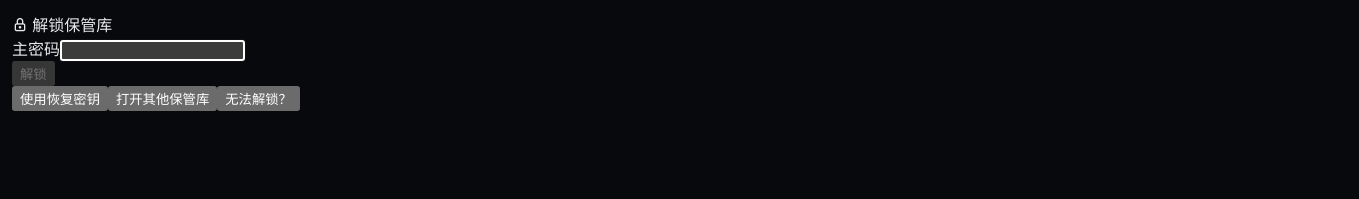
Test: VaultUnlock › names the recovery key's file only when the key is being used, and reads the key from a file
expect the text "my-key.txt" is not shown: met
Step 1. Click the button "使用恢复密钥" → (60, 98), box [12,86,108,111]
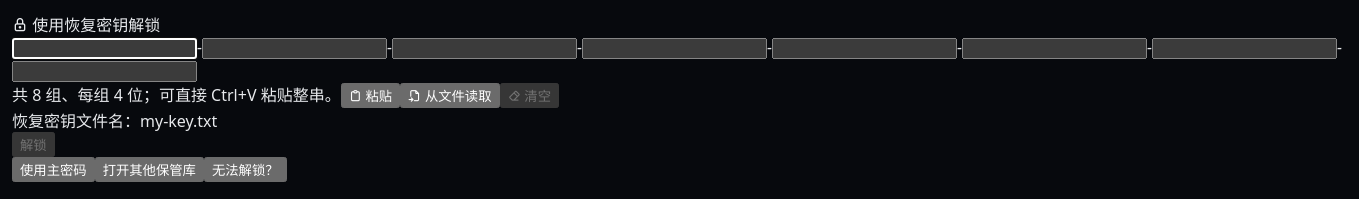
expect the text "my-key.txt" is shown: met, box [140,110,217,132]
Step 2. Click the button "从文件读取" → (450, 96), box [400,83,500,108]
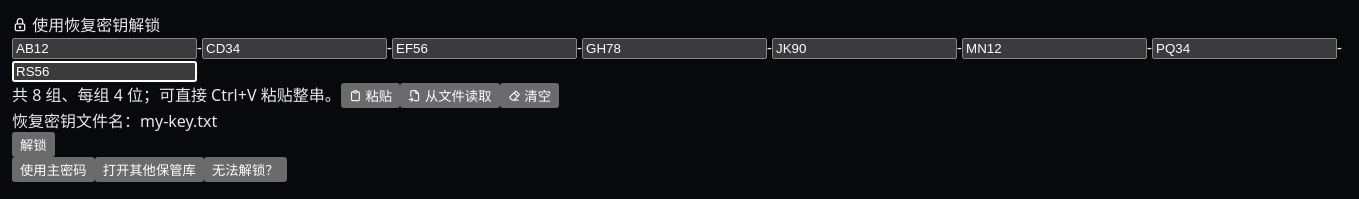
expect the field named "1 / 8" holds "AB12": met, box [12,38,197,59]
expect the button "解锁" is enabled: met, box [12,132,55,157]
